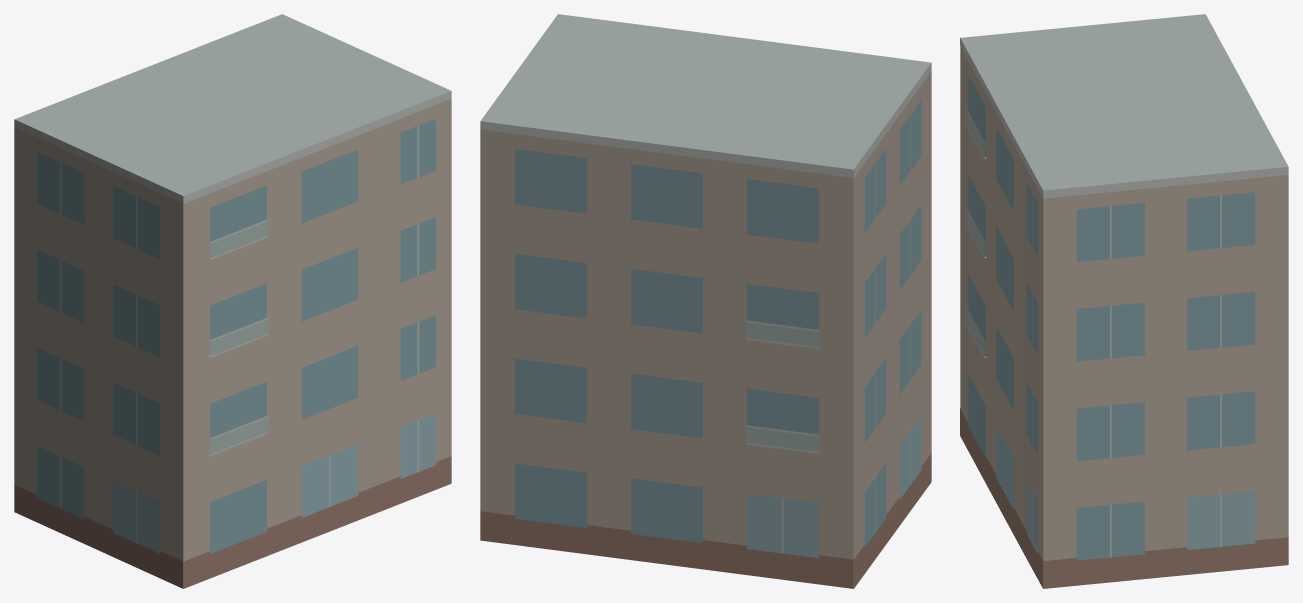
File: residential-2a06d3df-3399-4652-82db-bc98519612d1.glb
3 renders of one model, left to right at view 1: azimuth 30°, elevation 25°; view 2: azimuth 150°, elevation 25°; view 3: azimuth 270°, elevation 25°, orthographic. The views are drawn at different scales.
Visible parts, largest first — view 1: residential-2a06d3df-3399-4652-82db-bc98519612d1.tmp; view 2: residential-2a06d3df-3399-4652-82db-bc98519612d1.tmp; view 3: residential-2a06d3df-3399-4652-82db-bc98519612d1.tmp.
Boxes of the visible parts, bbox=[...] form: residential-2a06d3df-3399-4652-82db-bc98519612d1.tmp: bbox=[14, 14, 451, 588]; residential-2a06d3df-3399-4652-82db-bc98519612d1.tmp: bbox=[480, 14, 931, 588]; residential-2a06d3df-3399-4652-82db-bc98519612d1.tmp: bbox=[960, 14, 1288, 588].
Bounding box in the file's own units: 11.62 × 12.2 × 9.13.
